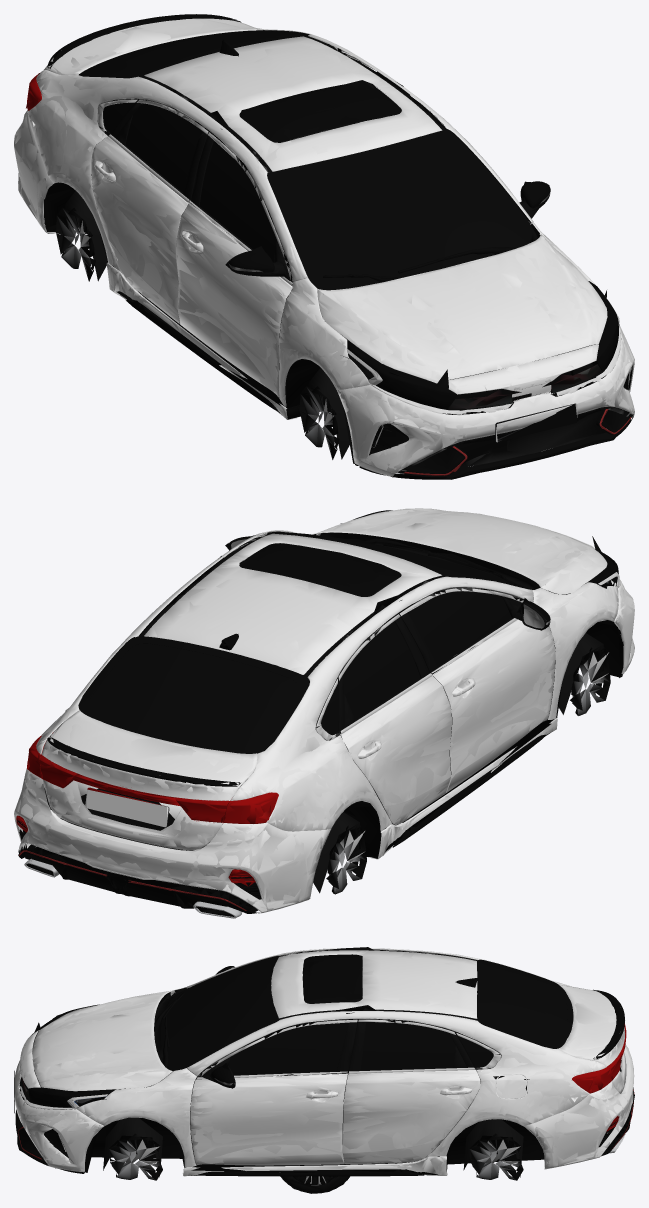
The model's file is sedan10.glb.
3 views of the same model, one above another, from view 1: azimuth 30°, elevation 25°; view 2: azimuth 150°, elevation 25°; view 3: azimuth 270°, elevation 25° (orthographic). The views are drawn at different scales.
Visible parts, largest first — view 1: body0, body2, body1; view 2: body0, body2, body1; view 3: body0, body1, body2, wheel0, wheel1.
Part boxes in pixels (box(x1,y1,x2,y2)): body0: box(14, 14, 634, 479); body2: box(14, 18, 634, 479); body1: box(14, 14, 634, 479); body0: box(14, 508, 634, 918); body2: box(14, 508, 634, 918); body1: box(14, 508, 634, 918); body0: box(14, 948, 633, 1176); body1: box(14, 948, 633, 1176); body2: box(14, 947, 634, 1180); wheel0: box(281, 1176, 349, 1193); wheel1: box(280, 1176, 345, 1193).
Bounding box in the file's own units: 2.07 × 1.77 × 4.65.
